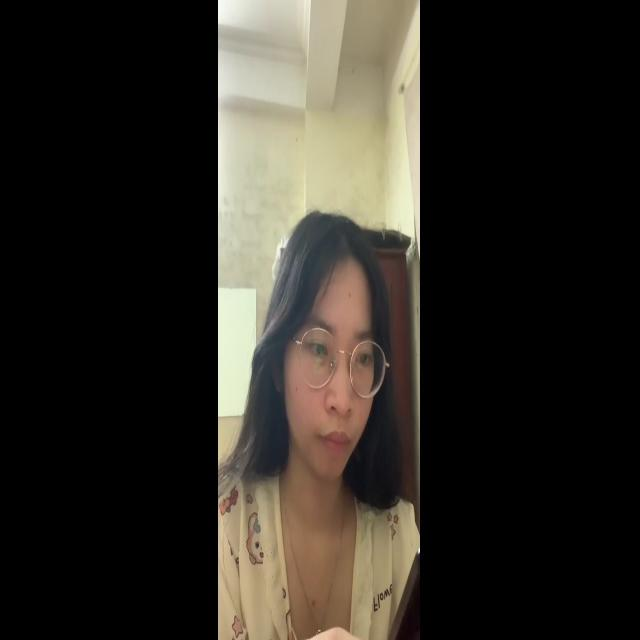student: (253, 204, 394, 632)
